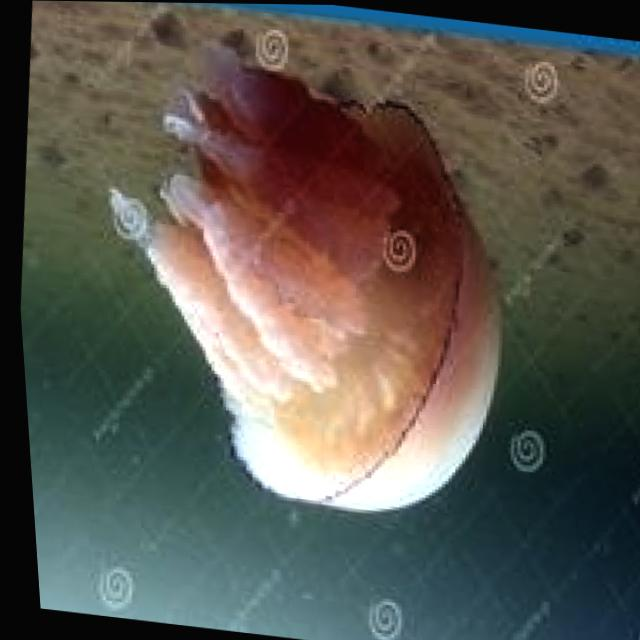Box-jellyfish: (62, 19, 536, 533)
